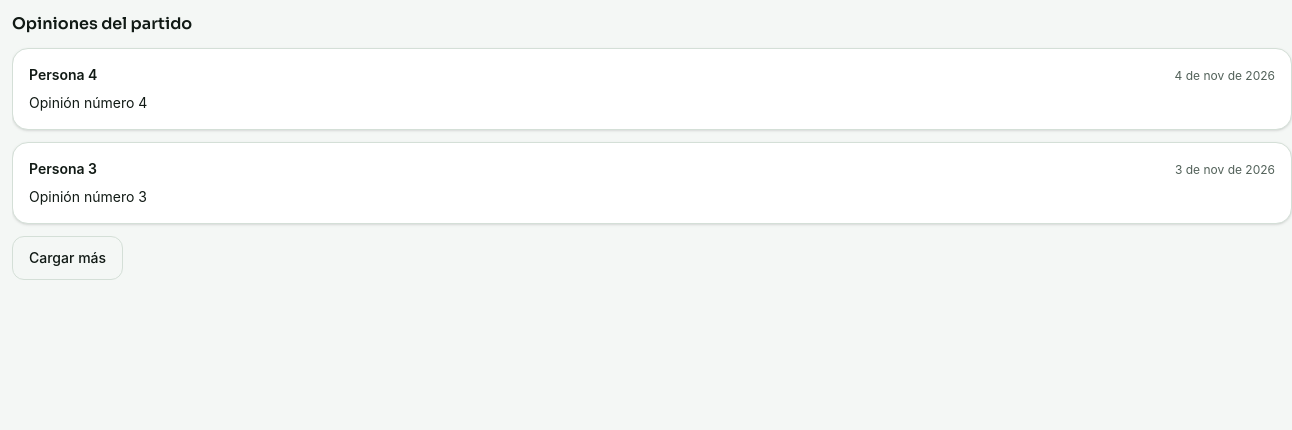
Test case: Cargar más › pide la página siguiente con el cursor tal cual, suma las opiniones y mantiene el orden
The image size is (1292, 430).
Expected: the text "Opinión número 4" is shown, [29,94,147,111]
Click the button "Cargar más".
click(68, 258)  # box [12,236,123,280]
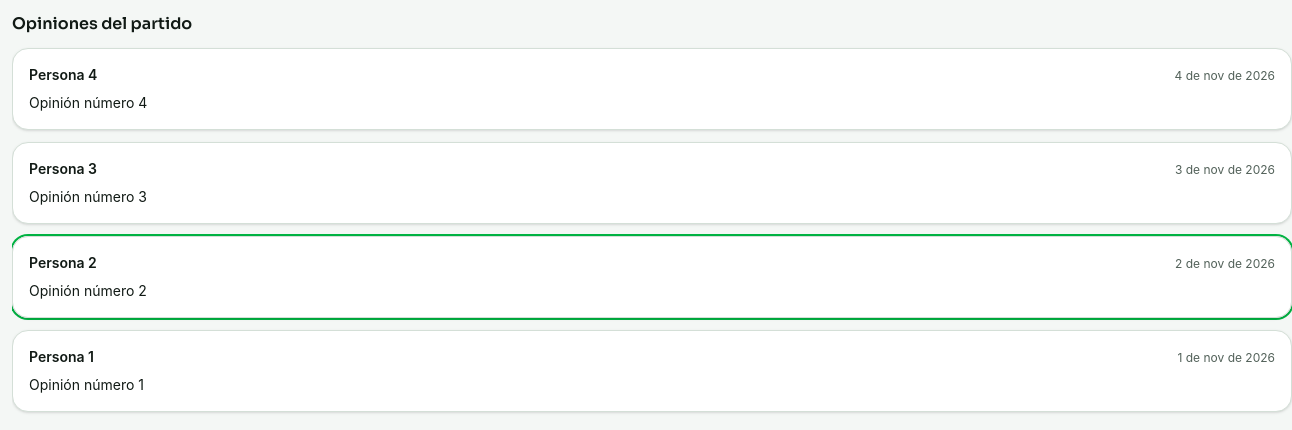
Expected: the text "Opinión número 1" is shown, [29,376,144,393]
Expected: the button "Cargar más" is gone
